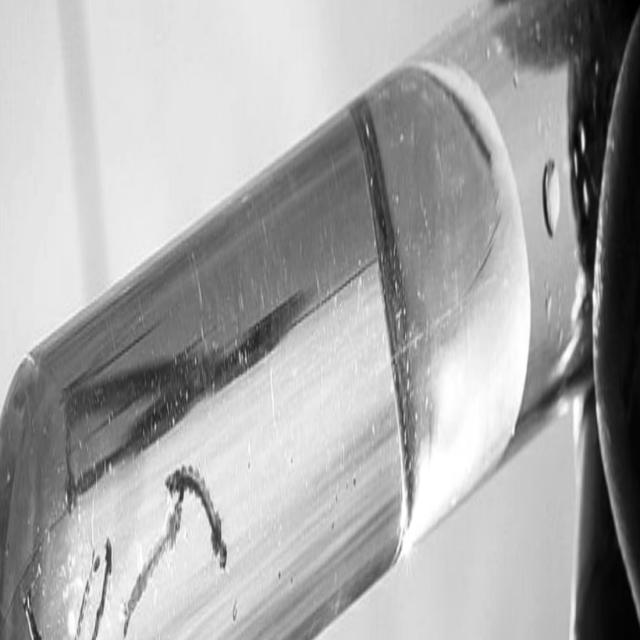larvas: (145, 423, 247, 604), (115, 494, 189, 640), (85, 503, 122, 640), (69, 543, 101, 640), (9, 577, 53, 640)
